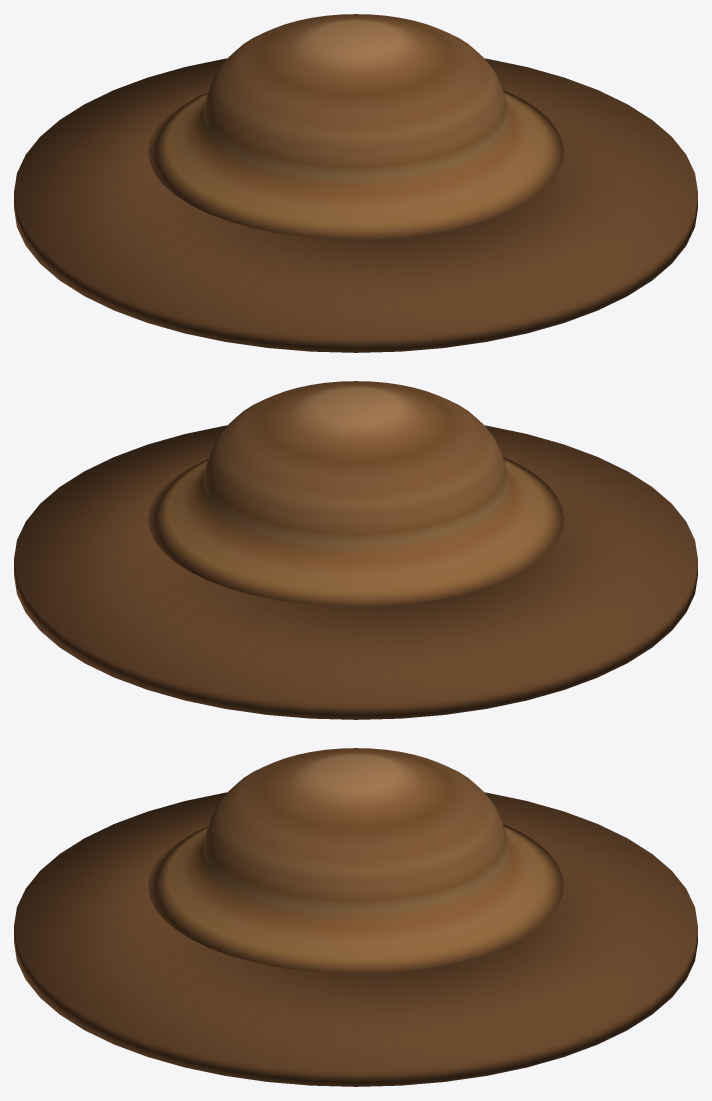
File: strohhut.glb
3 renders of one model, top to bottom at view 1: azimuth 30°, elevation 25°; view 2: azimuth 150°, elevation 25°; view 3: azimuth 270°, elevation 25°, orthographic.
Parts seen in each view (by area): view 1: strohhut; view 2: strohhut; view 3: strohhut.
Part boxes in pixels (box(x1,y1,x2,y2)): strohhut: box(14, 14, 697, 352); strohhut: box(14, 381, 697, 719); strohhut: box(14, 748, 697, 1086).
Bounding box in the file's own units: 0.46 × 0.1296 × 0.46.
